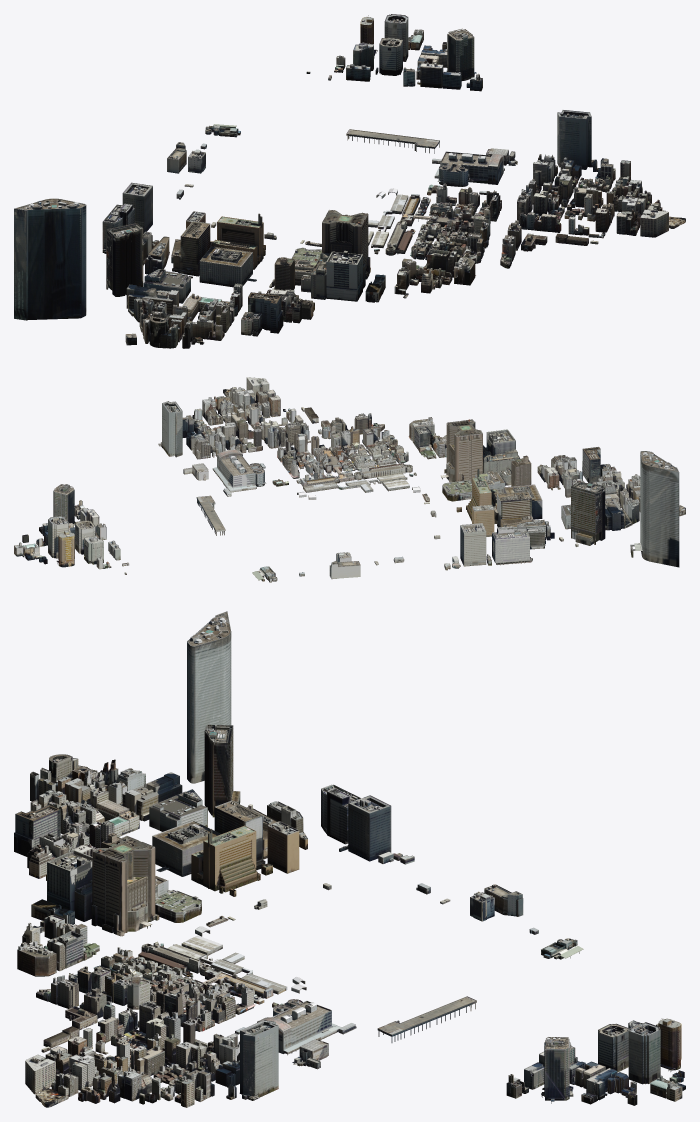
The model's file is 53393691_bldg_6677.fbx.
3 views of the same model, one above another, from view 1: azimuth 30°, elevation 25°; view 2: azimuth 150°, elevation 25°; view 3: azimuth 270°, elevation 25° (orthographic). The views are drawn at different scales.
Visible parts, largest first — view 1: plateau_merged.352, plateau_merged.123, plateau_merged.283, plateau_merged.160, plateau_merged.062, plateau_merged.311, plateau_merged.343, plateau_merged.456, plateau_merged.649, plateau_merged.443, plateau_merged.494, plateau_merged.608 (+11 smaller); view 2: plateau_merged.352, plateau_merged.160, plateau_merged.283, plateau_merged.123, plateau_merged.489, plateau_merged.062, plateau_merged.494, plateau_merged.311, plateau_merged.649, plateau_merged.456, plateau_merged.443, plateau_merged.599 (+16 smaller); view 3: plateau_merged.352, plateau_merged.160, plateau_merged.123, plateau_merged.311, plateau_merged.283, plateau_merged.494, plateau_merged.343, plateau_merged.062, plateau_merged.456, plateau_merged.744, plateau_merged.608, plateau_merged.649 (+14 smaller).
Part boxes in pixels (x1=…): plateau_merged.352: x1=14, y1=198, x2=86, y2=320; plateau_merged.123: x1=171, y1=213, x2=263, y2=276; plateau_merged.283: x1=106, y1=223, x2=143, y2=296; plateau_merged.160: x1=322, y1=209, x2=370, y2=279; plateau_merged.062: x1=437, y1=151, x2=503, y2=186; plateau_merged.311: x1=557, y1=110, x2=593, y2=169; plateau_merged.343: x1=199, y1=246, x2=256, y2=287; plateau_merged.456: x1=326, y1=250, x2=362, y2=301; plateau_merged.649: x1=446, y1=28, x2=476, y2=80; plateau_merged.443: x1=248, y1=292, x2=283, y2=333; plateau_merged.494: x1=122, y1=182, x2=152, y2=233; plateau_merged.608: x1=143, y1=269, x2=190, y2=303; plateau_merged.352: x1=630, y1=451, x2=679, y2=567; plateau_merged.160: x1=444, y1=419, x2=482, y2=482; plateau_merged.283: x1=571, y1=481, x2=605, y2=545; plateau_merged.123: x1=466, y1=468, x2=533, y2=527; plateau_merged.489: x1=492, y1=526, x2=532, y2=565; plateau_merged.062: x1=217, y1=450, x2=266, y2=487; plateau_merged.494: x1=460, y1=523, x2=486, y2=566; plateau_merged.311: x1=160, y1=401, x2=182, y2=457; plateau_merged.649: x1=53, y1=484, x2=75, y2=525; plateau_merged.456: x1=486, y1=429, x2=515, y2=455; plateau_merged.443: x1=582, y1=447, x2=600, y2=483; plateau_merged.599: x1=483, y1=449, x2=519, y2=474; plateau_merged.352: x1=187, y1=611, x2=231, y2=783; plateau_merged.160: x1=91, y1=835, x2=159, y2=936; plateau_merged.123: x1=191, y1=800, x2=267, y2=892; plateau_merged.311: x1=239, y1=1020, x2=278, y2=1100; plateau_merged.283: x1=204, y1=724, x2=240, y2=817; plateau_merged.494: x1=348, y1=795, x2=391, y2=861; plateau_merged.343: x1=152, y1=820, x2=220, y2=876; plateau_merged.062: x1=257, y1=999, x2=331, y2=1053; plateau_merged.456: x1=47, y1=850, x2=92, y2=910; plateau_merged.744: x1=628, y1=1022, x2=660, y2=1084; plateau_merged.608: x1=149, y1=789, x2=207, y2=831; plateau_merged.649: x1=541, y1=1037, x2=573, y2=1103.
Bounding box in the file's own units: 123647 × 22183 × 96209.
775 materials, 775 textured.
